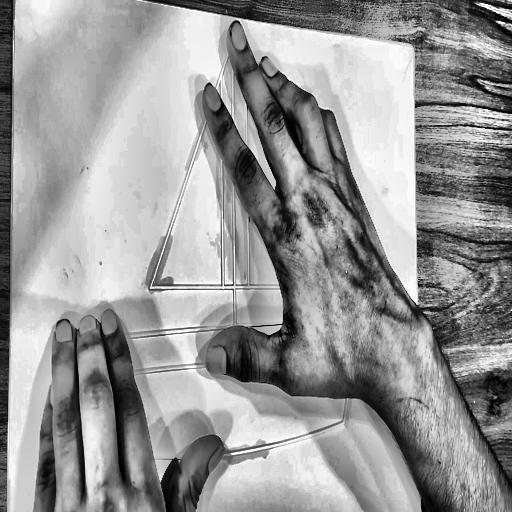boat: (84, 21, 367, 471)
top_right: (410, 42, 417, 57)
